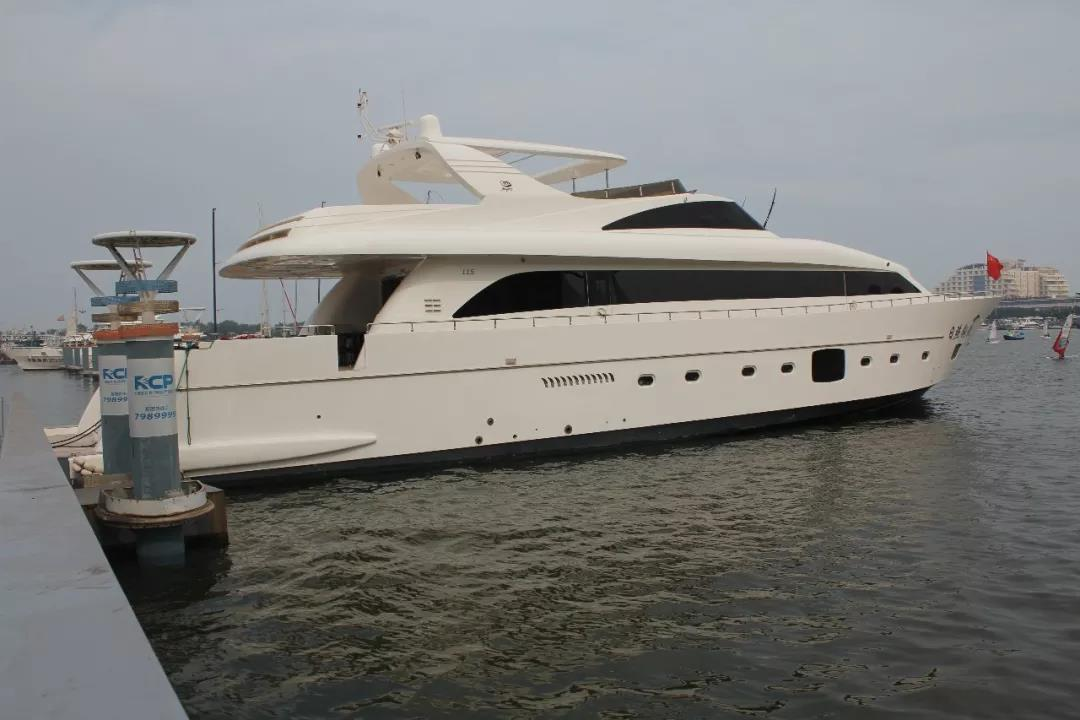yacht: (84, 103, 1008, 513)
